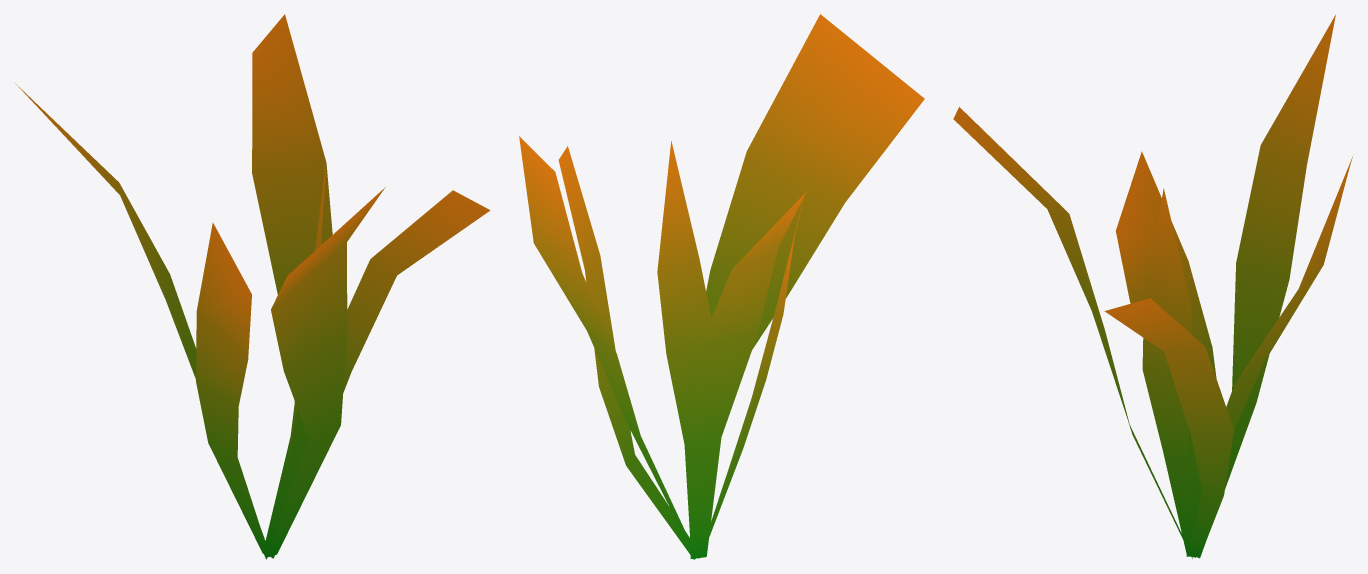
The model's file is Common Eelgrass_LOD2_Var2_sjglk.fbx.
3 views of the same model, side by side, from view 1: azimuth 30°, elevation 25°; view 2: azimuth 150°, elevation 25°; view 3: azimuth 270°, elevation 25° (orthographic). The views are drawn at different scales.
Parts seen in each view (by area): view 1: _eb21_Var2_LOD2; view 2: _eb21_Var2_LOD2; view 3: _eb21_Var2_LOD2.
Part boxes in pixels (bbox=[...]): _eb21_Var2_LOD2: bbox=[15, 14, 490, 559]; _eb21_Var2_LOD2: bbox=[519, 14, 924, 559]; _eb21_Var2_LOD2: bbox=[953, 14, 1352, 558].
Bounding box in the file's own units: 65.26 × 81.04 × 64.55.
